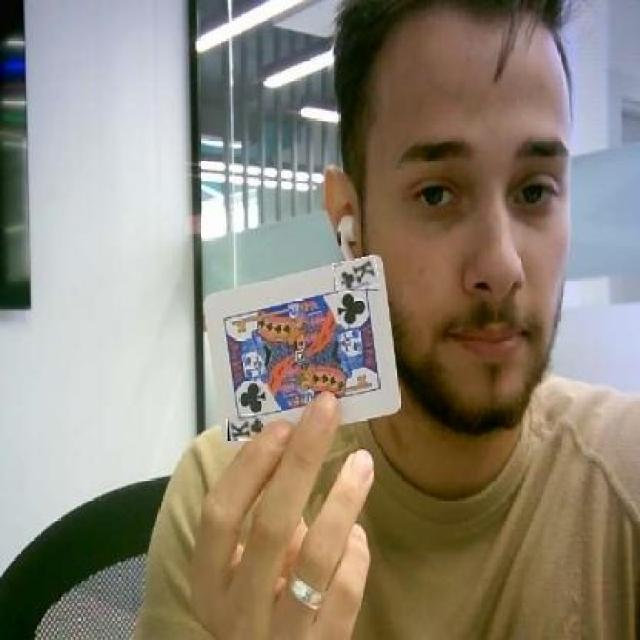KC: (334, 258, 378, 291), (228, 415, 262, 440)
